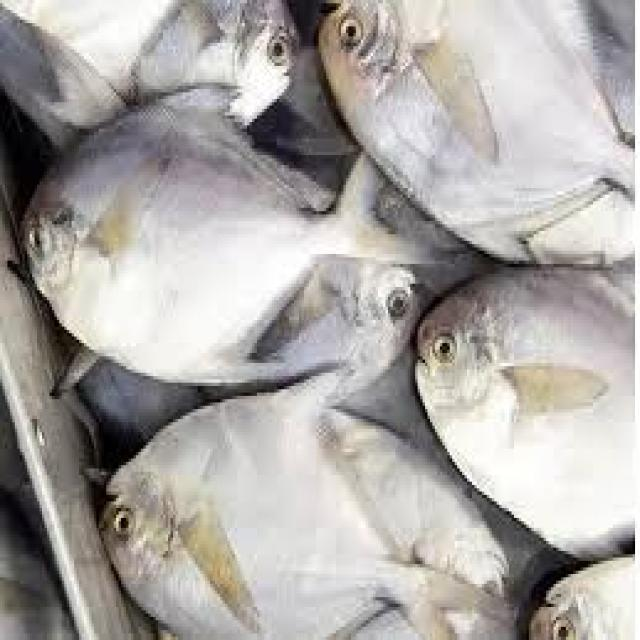pomfred: (18, 87, 455, 378)
